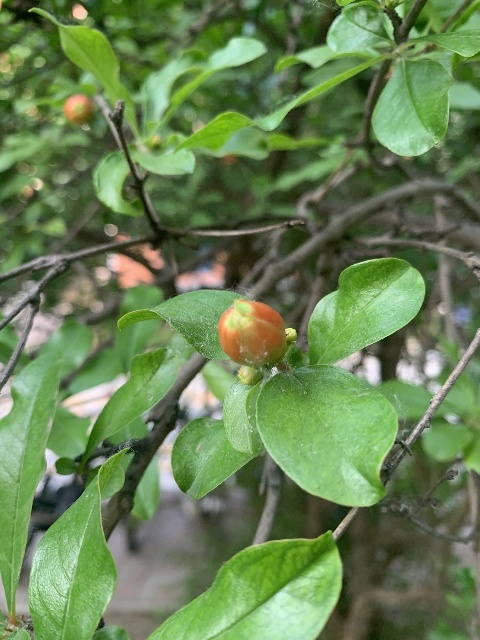bud: (217, 299, 286, 365), (63, 94, 93, 124)
